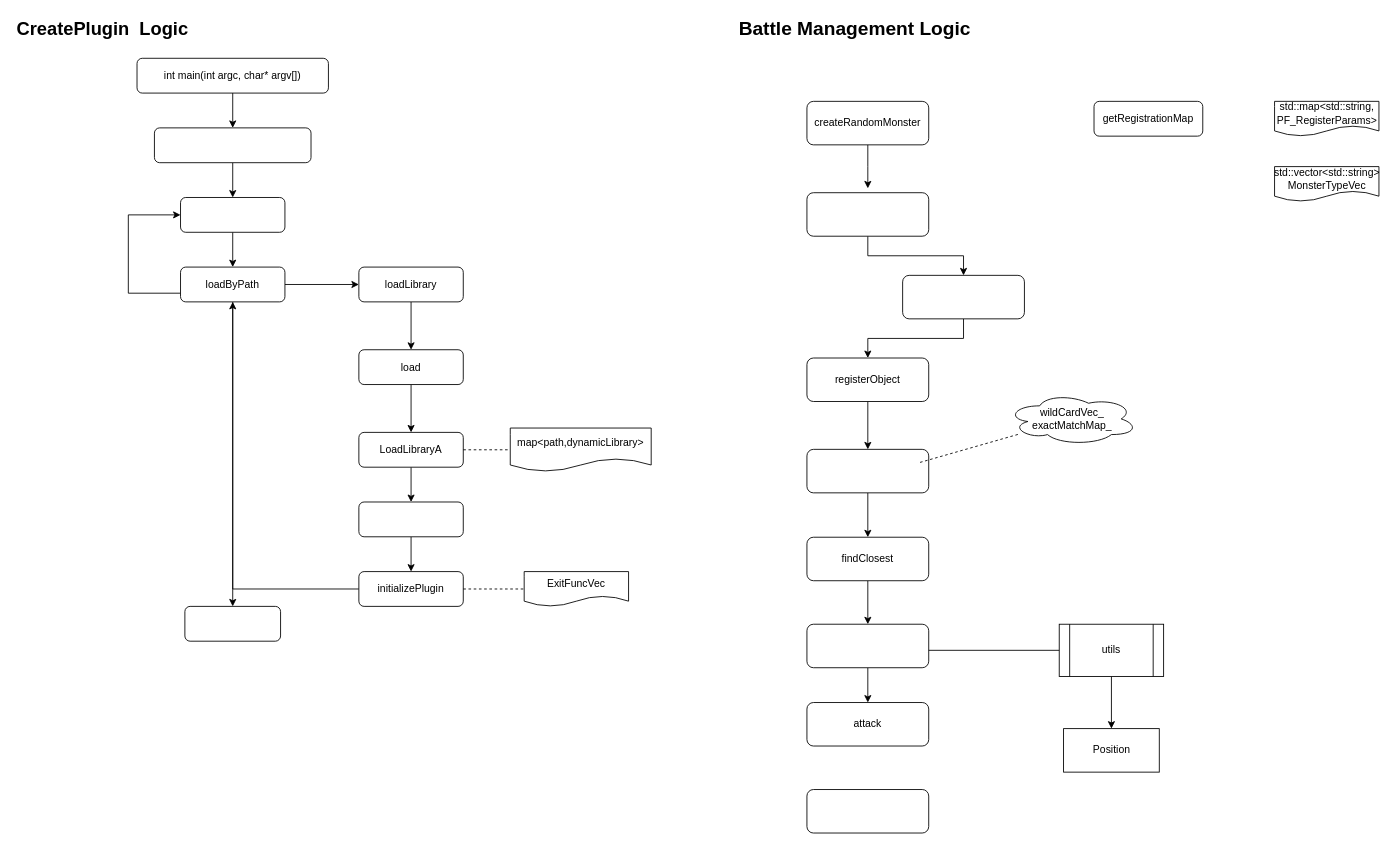
Some shapes in this 1394 by 848 pixel diagram are drawn without their labels. The box of each missing label's shape, as (x1, y1, x2, y2) in pixels:
createFunc: (902, 274, 1024, 319)
createObject: (806, 192, 929, 236)
doSingleFightSequence: (806, 789, 929, 833)
getSymbol: (358, 501, 463, 537)
go(): (184, 606, 281, 641)
Hero::play: (806, 448, 929, 493)
loadAll: (180, 197, 285, 232)
move: (806, 623, 929, 668)
PluginManager::getInstance(): (154, 127, 311, 163)
